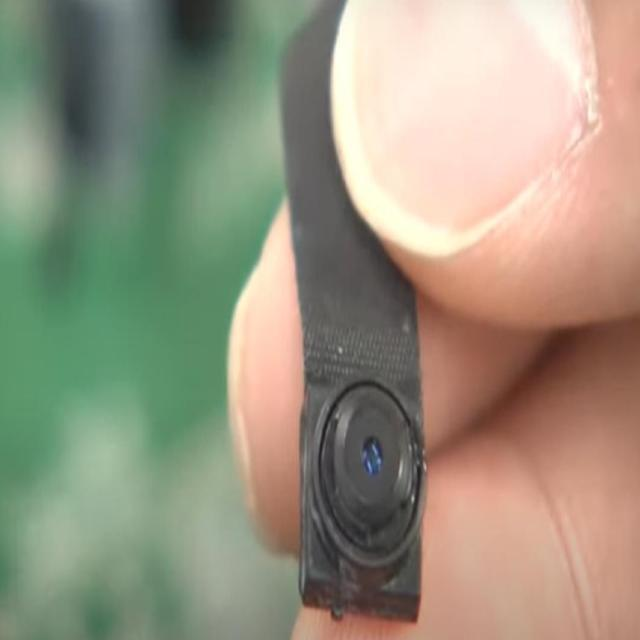hidden camera: (326, 366, 415, 537)
